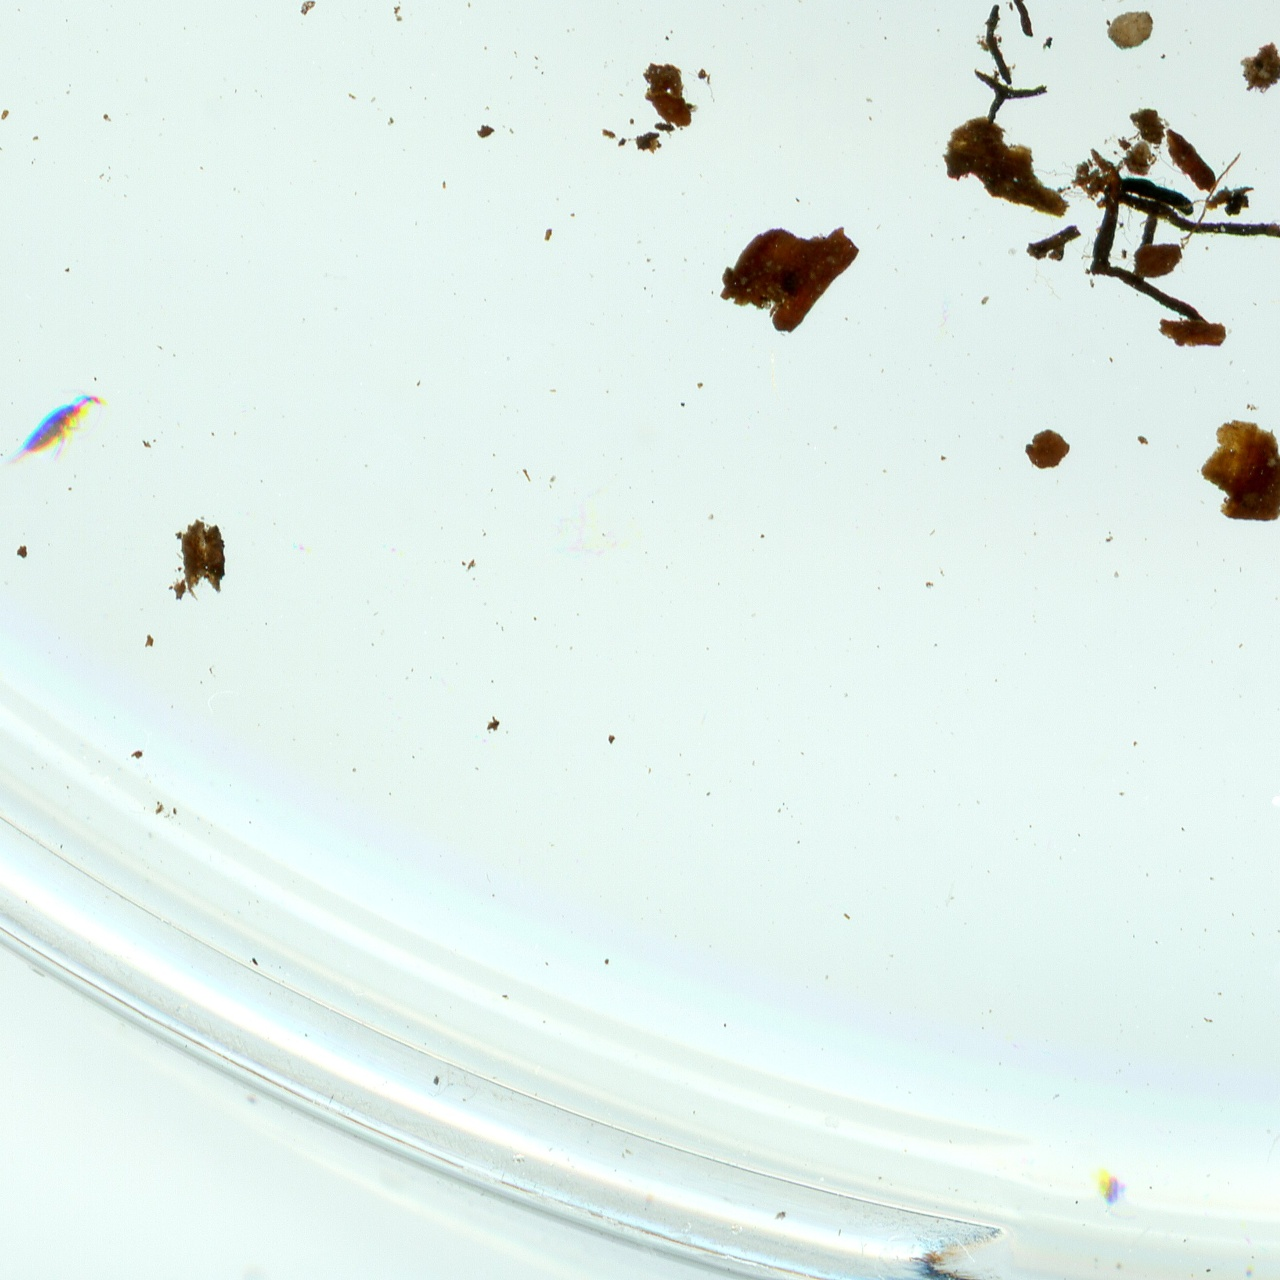arthropod: (0, 372, 122, 502)
